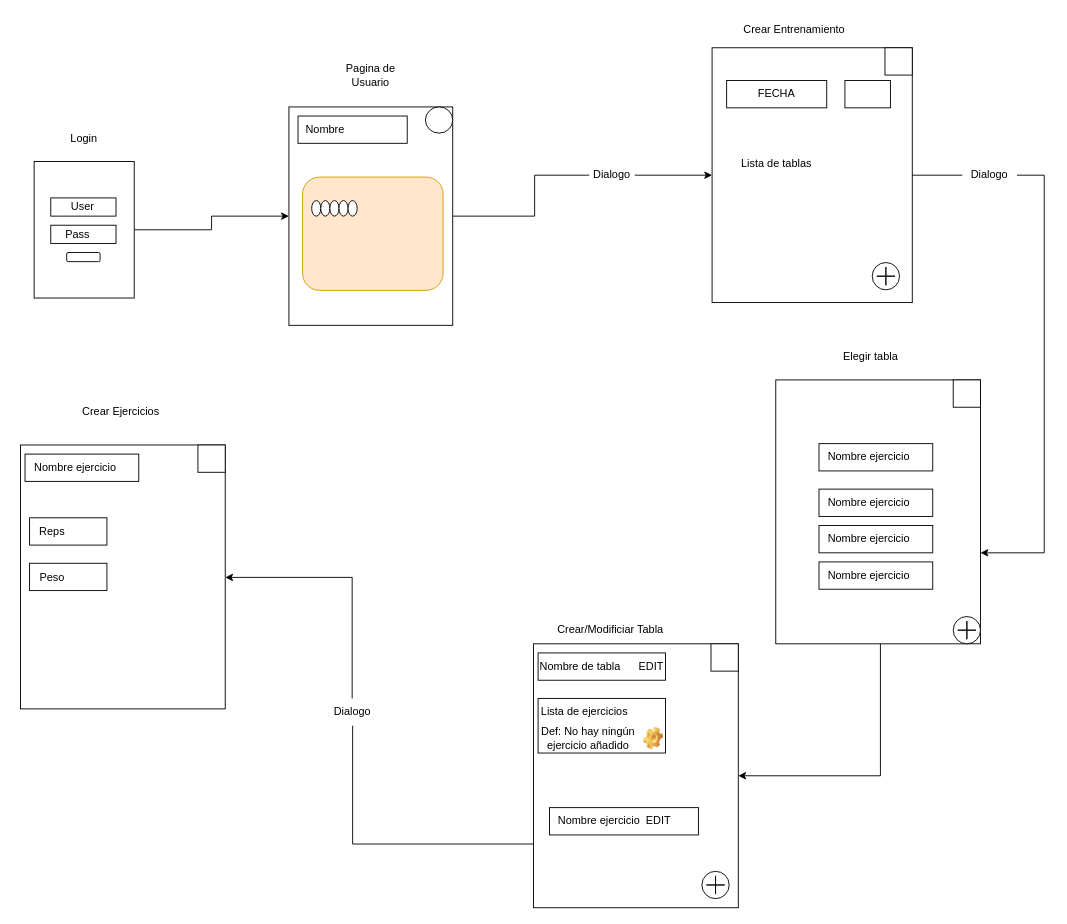
This 1067x924 diagram has some shape labels left out. The shapes that lost their labels are listed below. From the top down, each one's centre as x and y in pixels, then its label:
At point 867,94: "HH:MM".
At point 439,119: "Logo".
At point 372,233: "Calendario".
